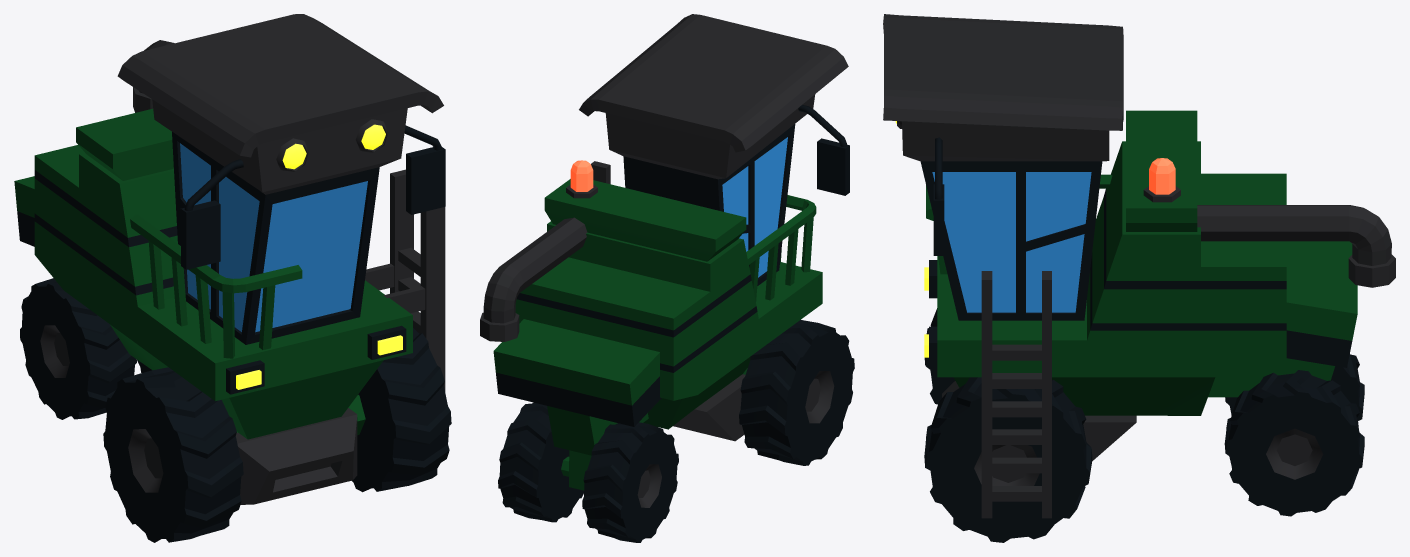
The model's file is Harvester.fbx.
The picture shows the model from 3 angles, left to right: view 1: azimuth 30°, elevation 25°; view 2: azimuth 150°, elevation 25°; view 3: azimuth 270°, elevation 25°; orthographic projection. The views are drawn at different scales.
Visible parts, largest first — view 1: Harvester; view 2: Harvester; view 3: Harvester.
Part boxes in pixels (x1,y1,x2,y2): Harvester: (14, 14, 451, 542); Harvester: (480, 14, 854, 542); Harvester: (883, 14, 1395, 542).
Bounding box in the file's own units: 87.97 × 130 × 141.
